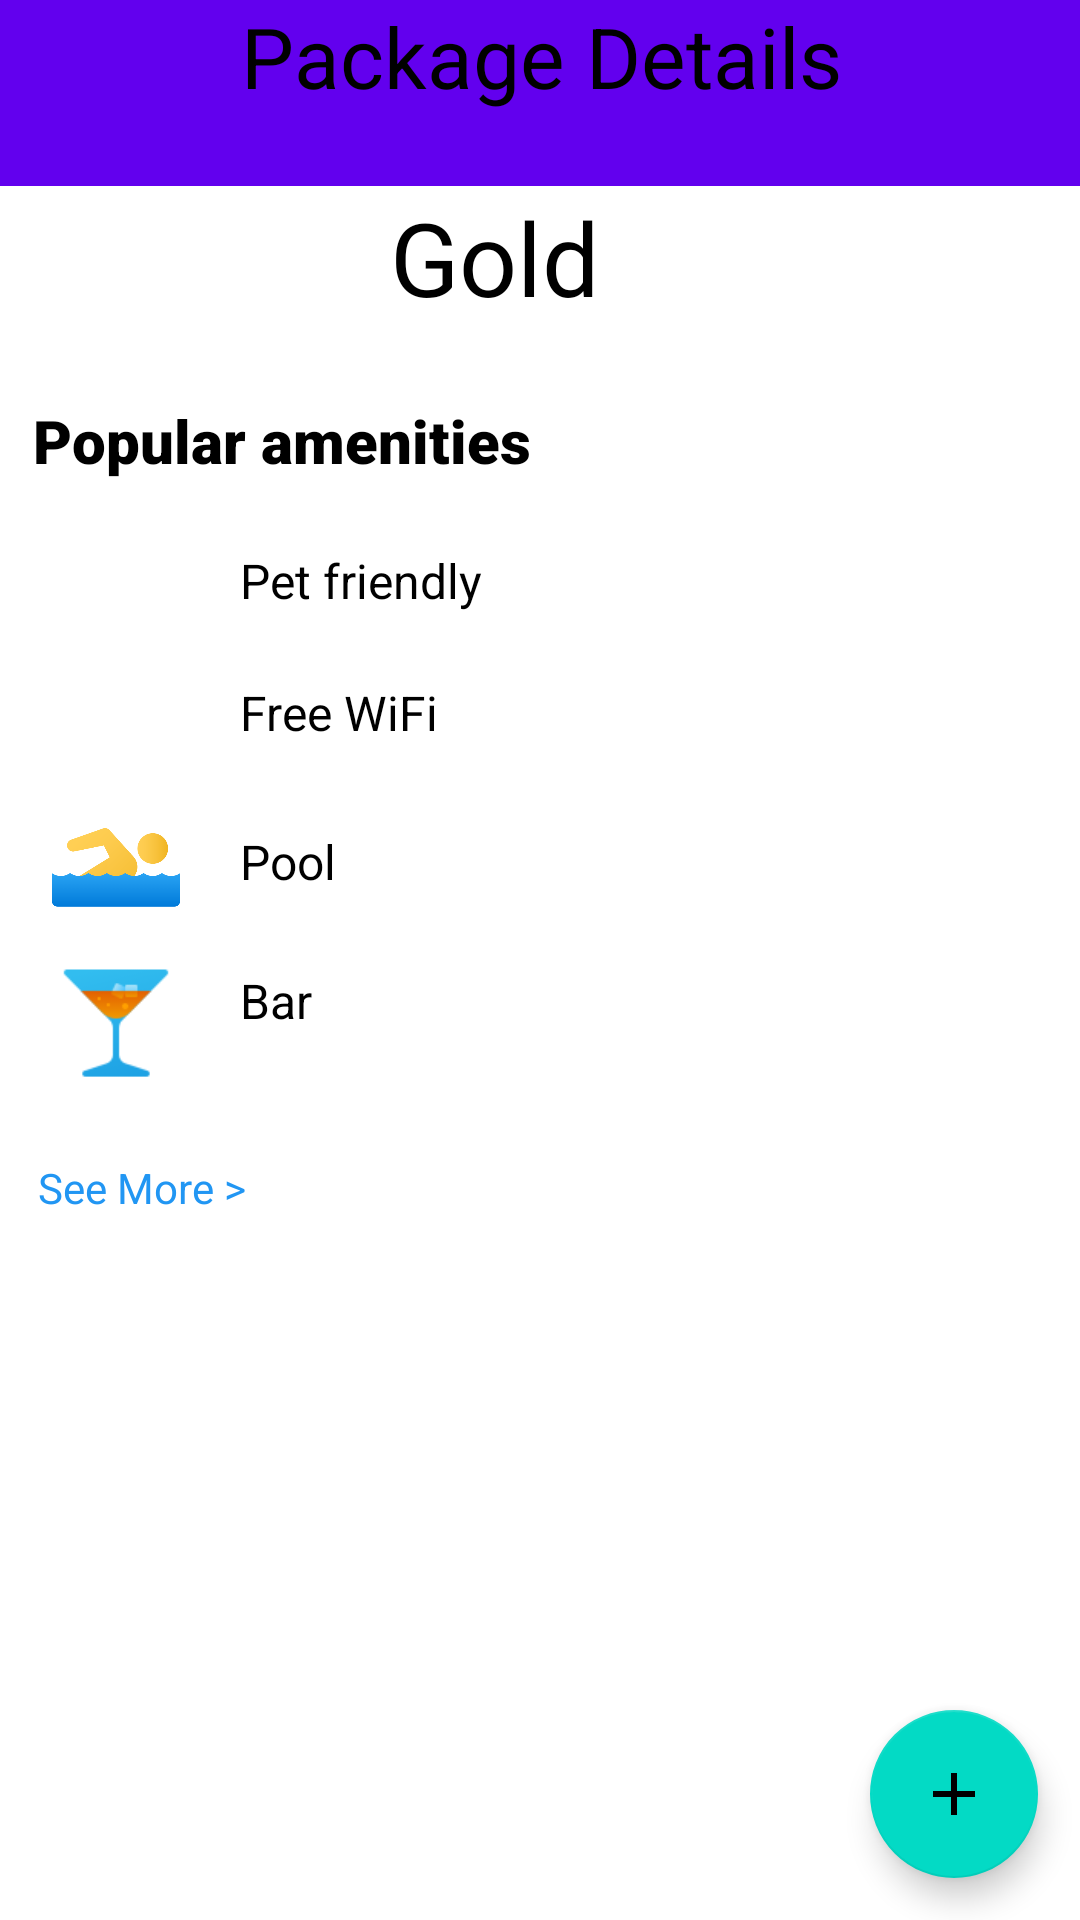

Icons on this 1080 × 1920 Android screen, each with its box as (x1, y1, x2, y2):
Add package: (870, 1710, 1038, 1878)
cocktail: (63, 969, 169, 1077)
